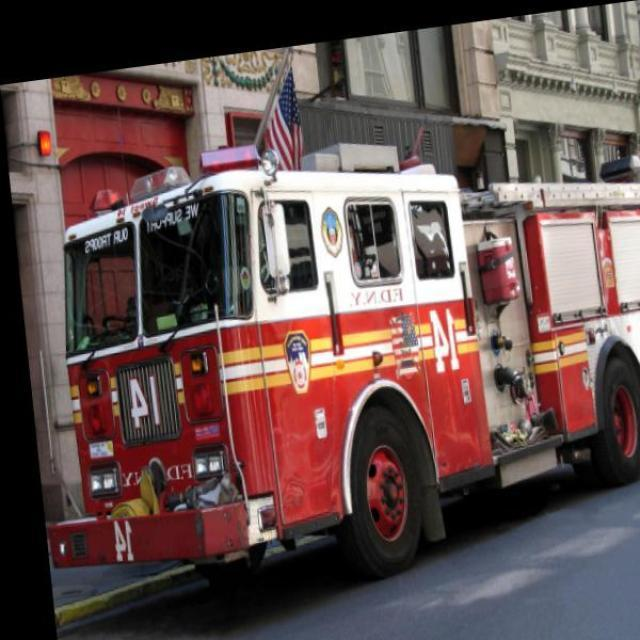emergency: (45, 138, 640, 582)
